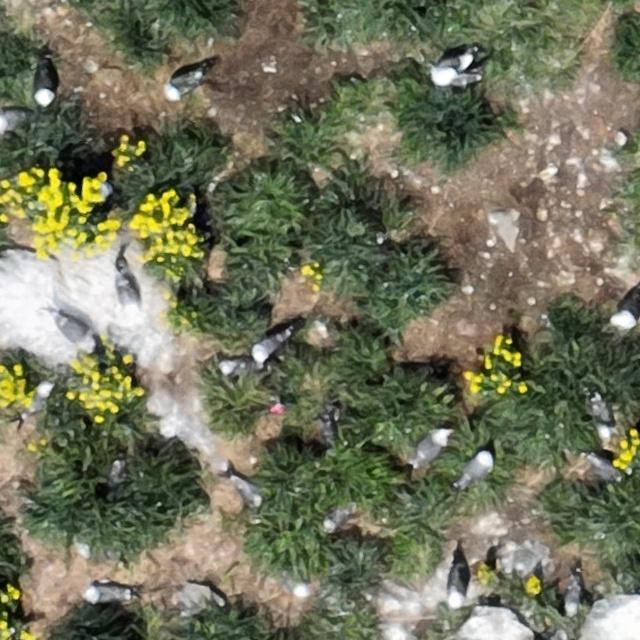umineko: (116, 266, 140, 320), (448, 555, 471, 611), (593, 394, 617, 445), (412, 430, 446, 463), (460, 451, 492, 484), (324, 500, 356, 533), (56, 314, 94, 340), (612, 289, 638, 325), (74, 544, 125, 562), (279, 569, 309, 599), (431, 70, 479, 88), (169, 71, 202, 97), (253, 332, 284, 359), (85, 584, 128, 603), (36, 67, 56, 107), (233, 477, 261, 504), (438, 53, 474, 74), (586, 457, 618, 480), (29, 384, 50, 414), (565, 578, 581, 616), (221, 360, 252, 376)
